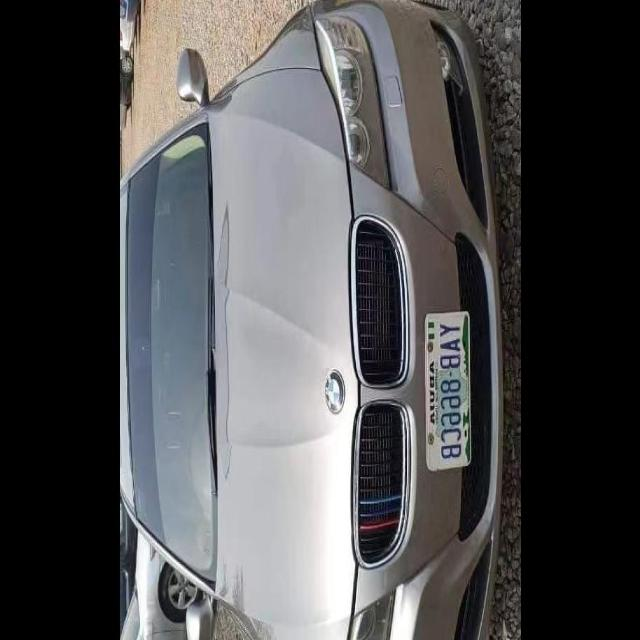Nigerian License Plate - vdataset benjamin-daria: (423, 312, 472, 471)
